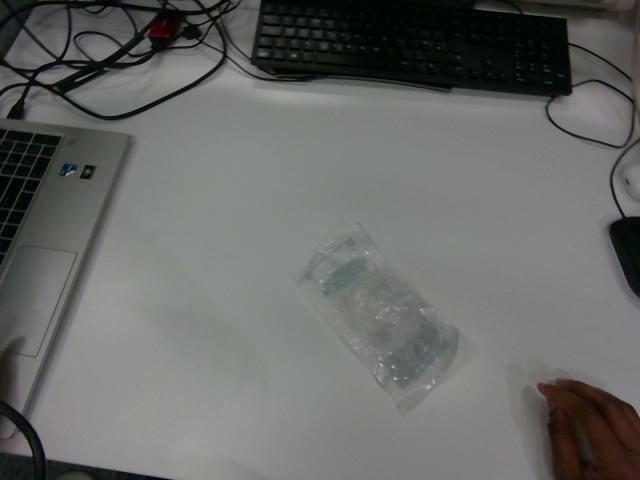gallipot: (297, 224, 458, 409)
